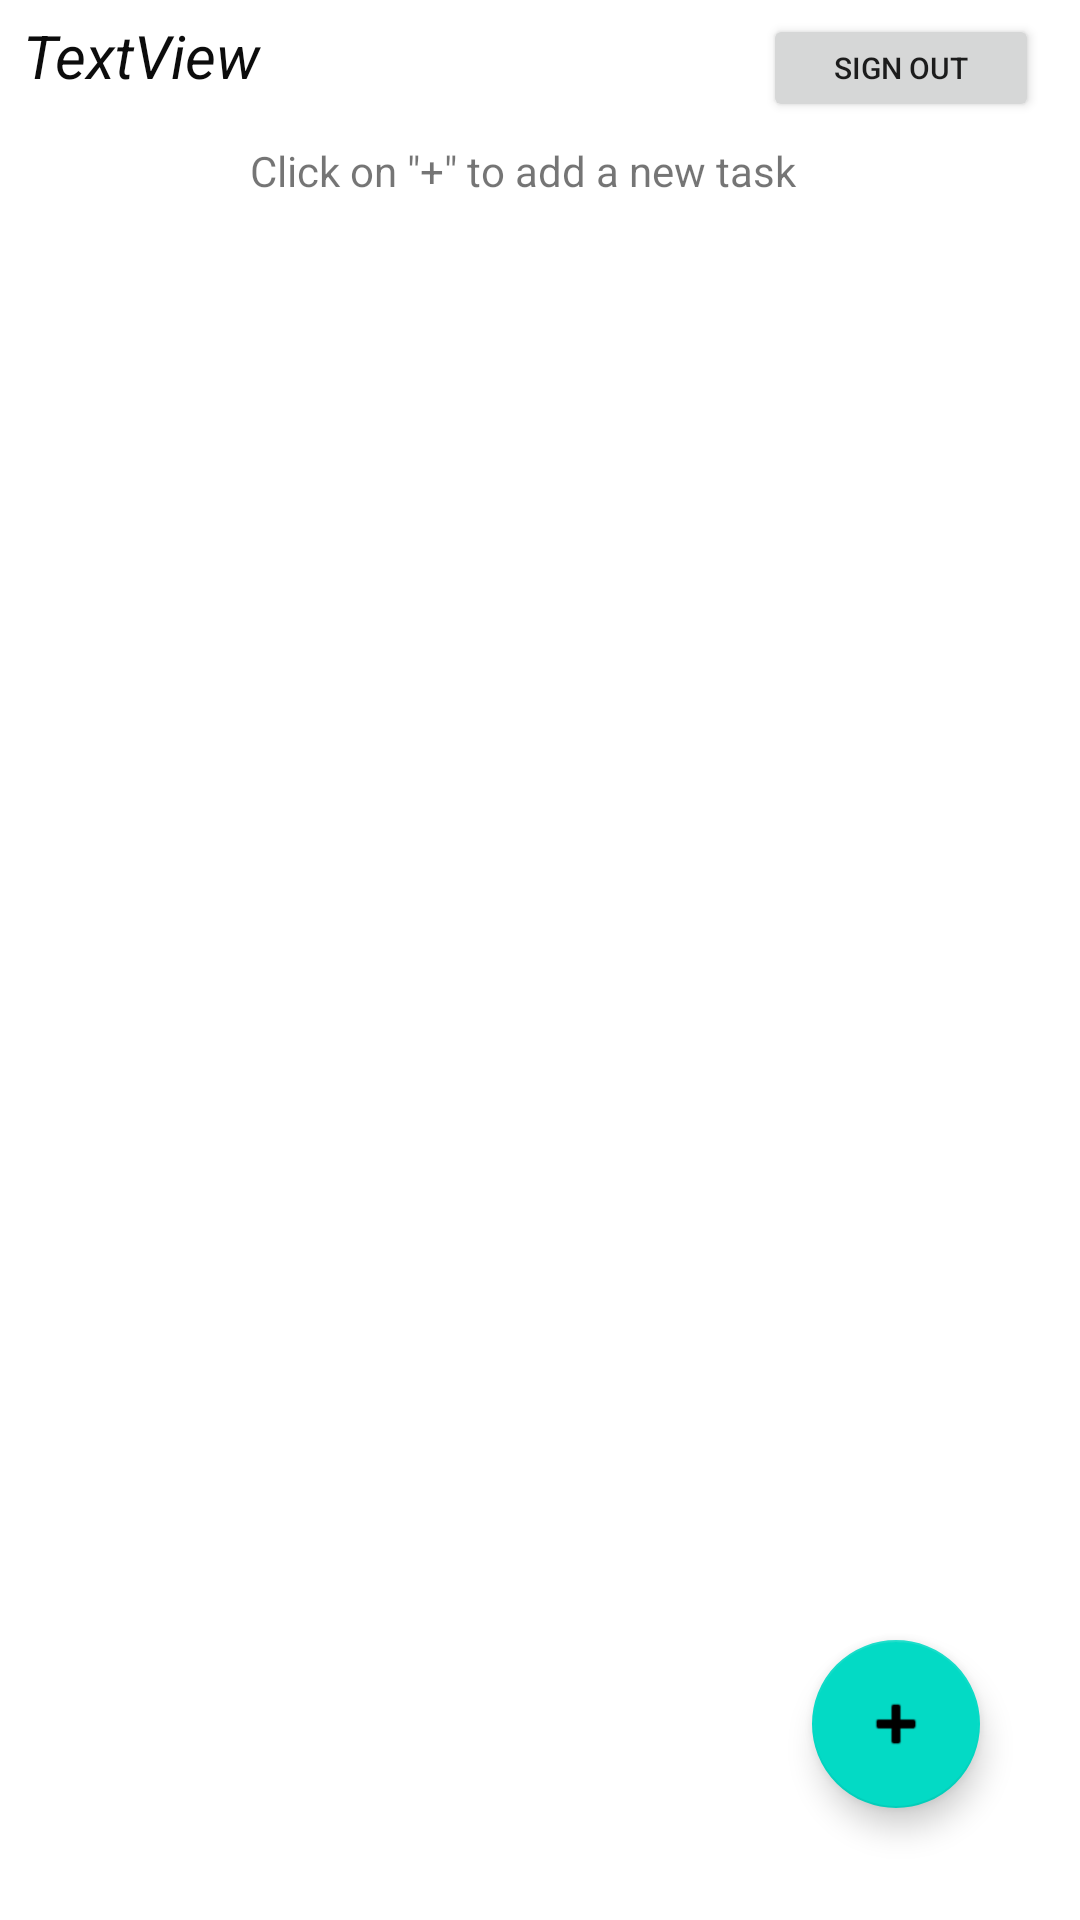

Icon click points for this 1080 × 1920 phone screenshot, format point (x, y):
add: point (896, 1724)
